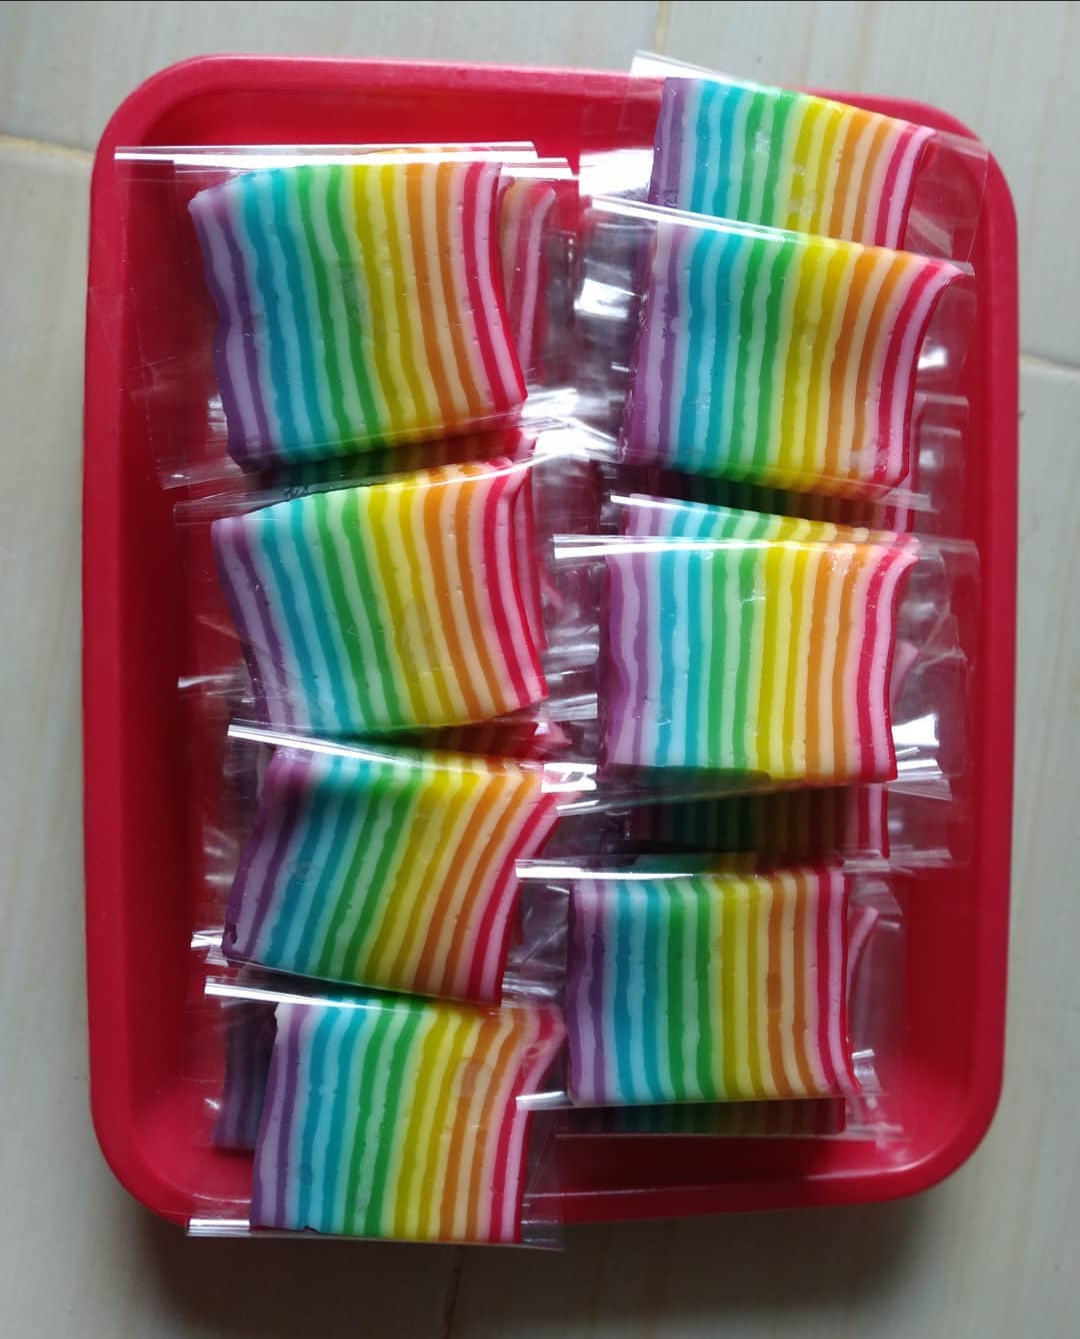kue_lapis_pelangi: (188, 153, 515, 468), (210, 463, 553, 743), (623, 204, 925, 495), (219, 748, 547, 998), (603, 537, 909, 793), (251, 1002, 562, 1249), (566, 871, 864, 1106)
